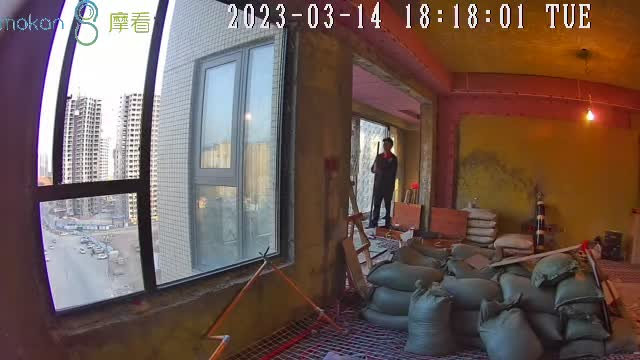people: (372, 138, 399, 228)
window: (43, 1, 289, 320), (352, 115, 394, 223)
